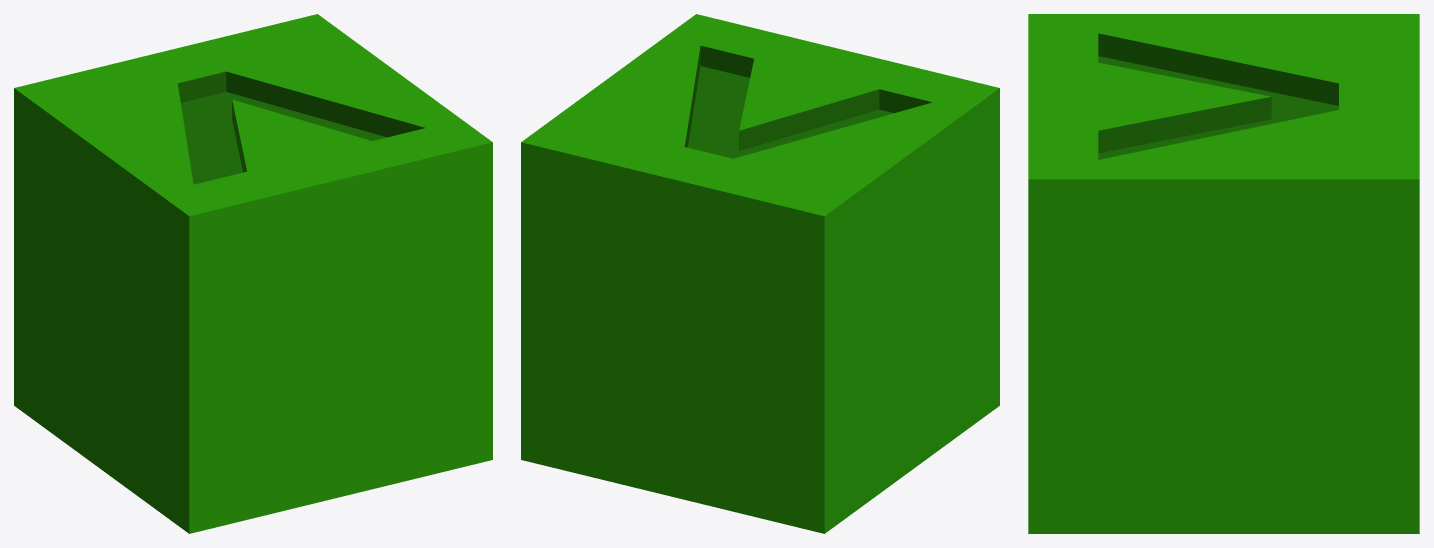
Rendered from boostTrigger.fbx.
The picture shows the model from 3 angles, left to right: view 1: azimuth 30°, elevation 25°; view 2: azimuth 150°, elevation 25°; view 3: azimuth 270°, elevation 25°; orthographic projection. The views are drawn at different scales.
Parts seen in each view (by area): view 1: boostTrigger; view 2: boostTrigger; view 3: boostTrigger.
Part boxes in pixels (<box>): boostTrigger: <box>14,14,492,533</box>; boostTrigger: <box>521,14,999,533</box>; boostTrigger: <box>1028,14,1419,533</box>.
Size of the model in its own units: 100 by 100 by 100.
